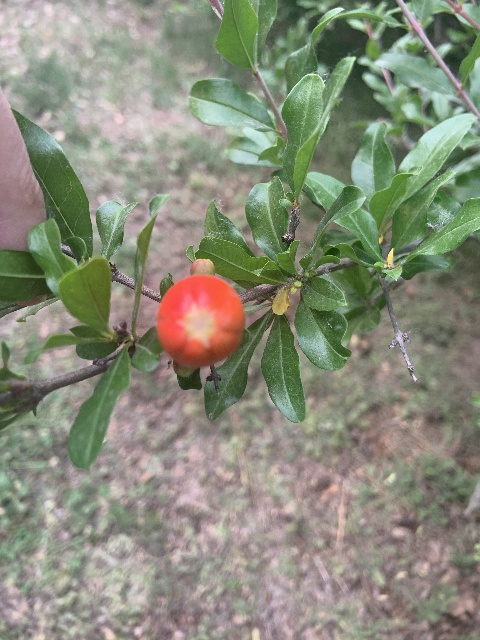bud: (156, 273, 245, 368), (190, 258, 215, 276)
